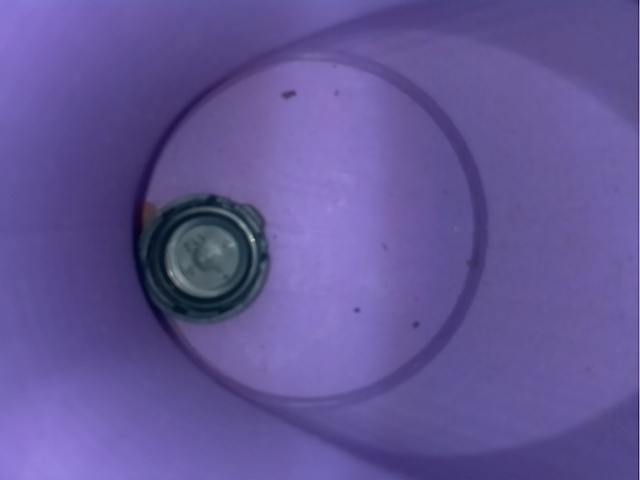bouchon: (128, 180, 283, 325)
